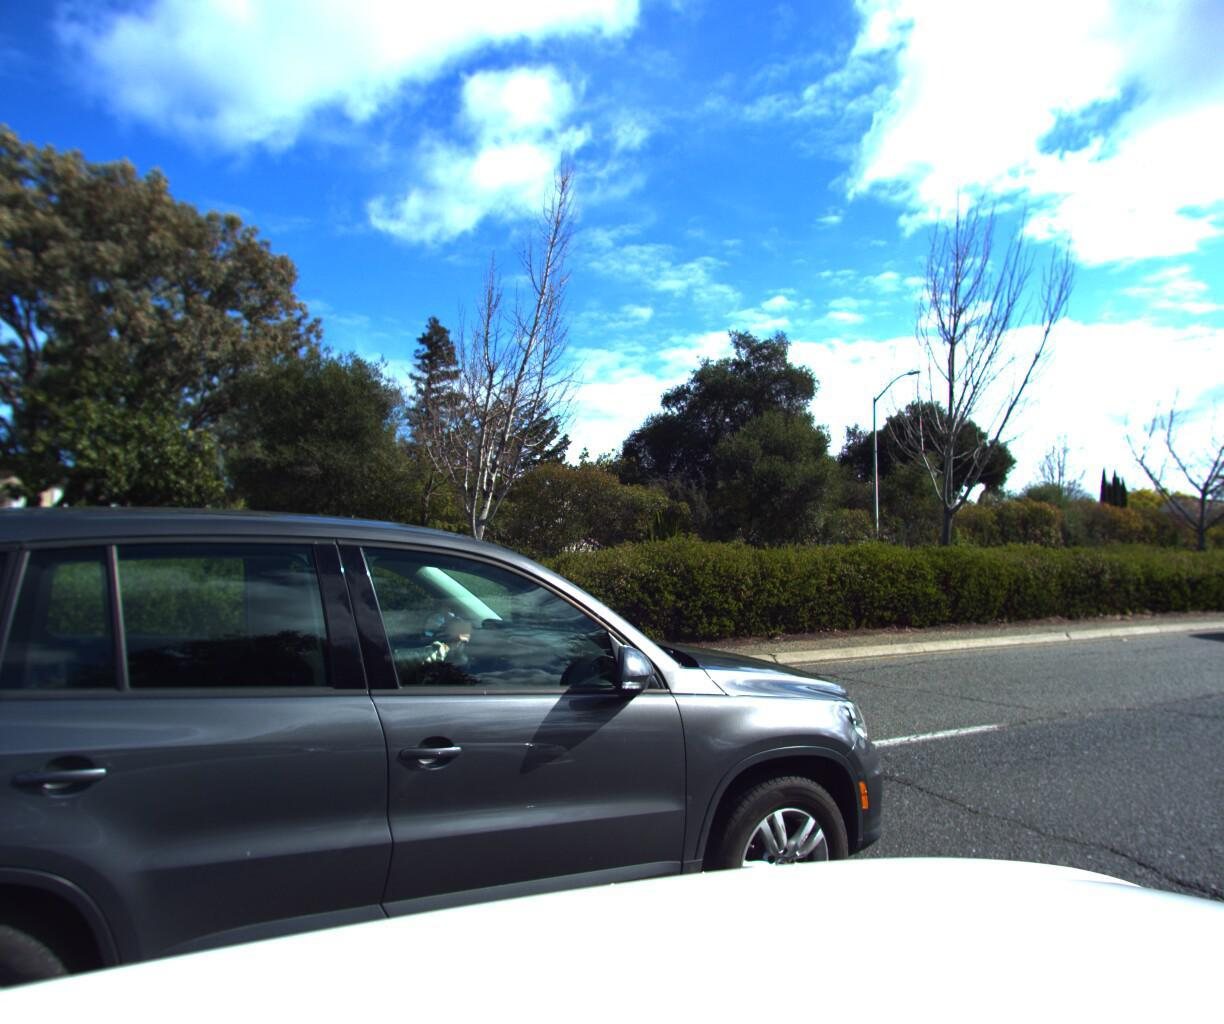car: (0, 468, 952, 1024)
